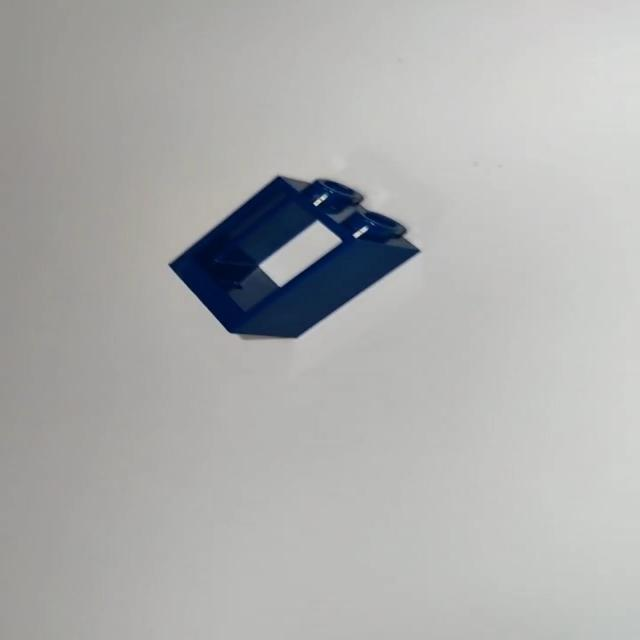W2x1x2: (163, 171, 424, 340)
